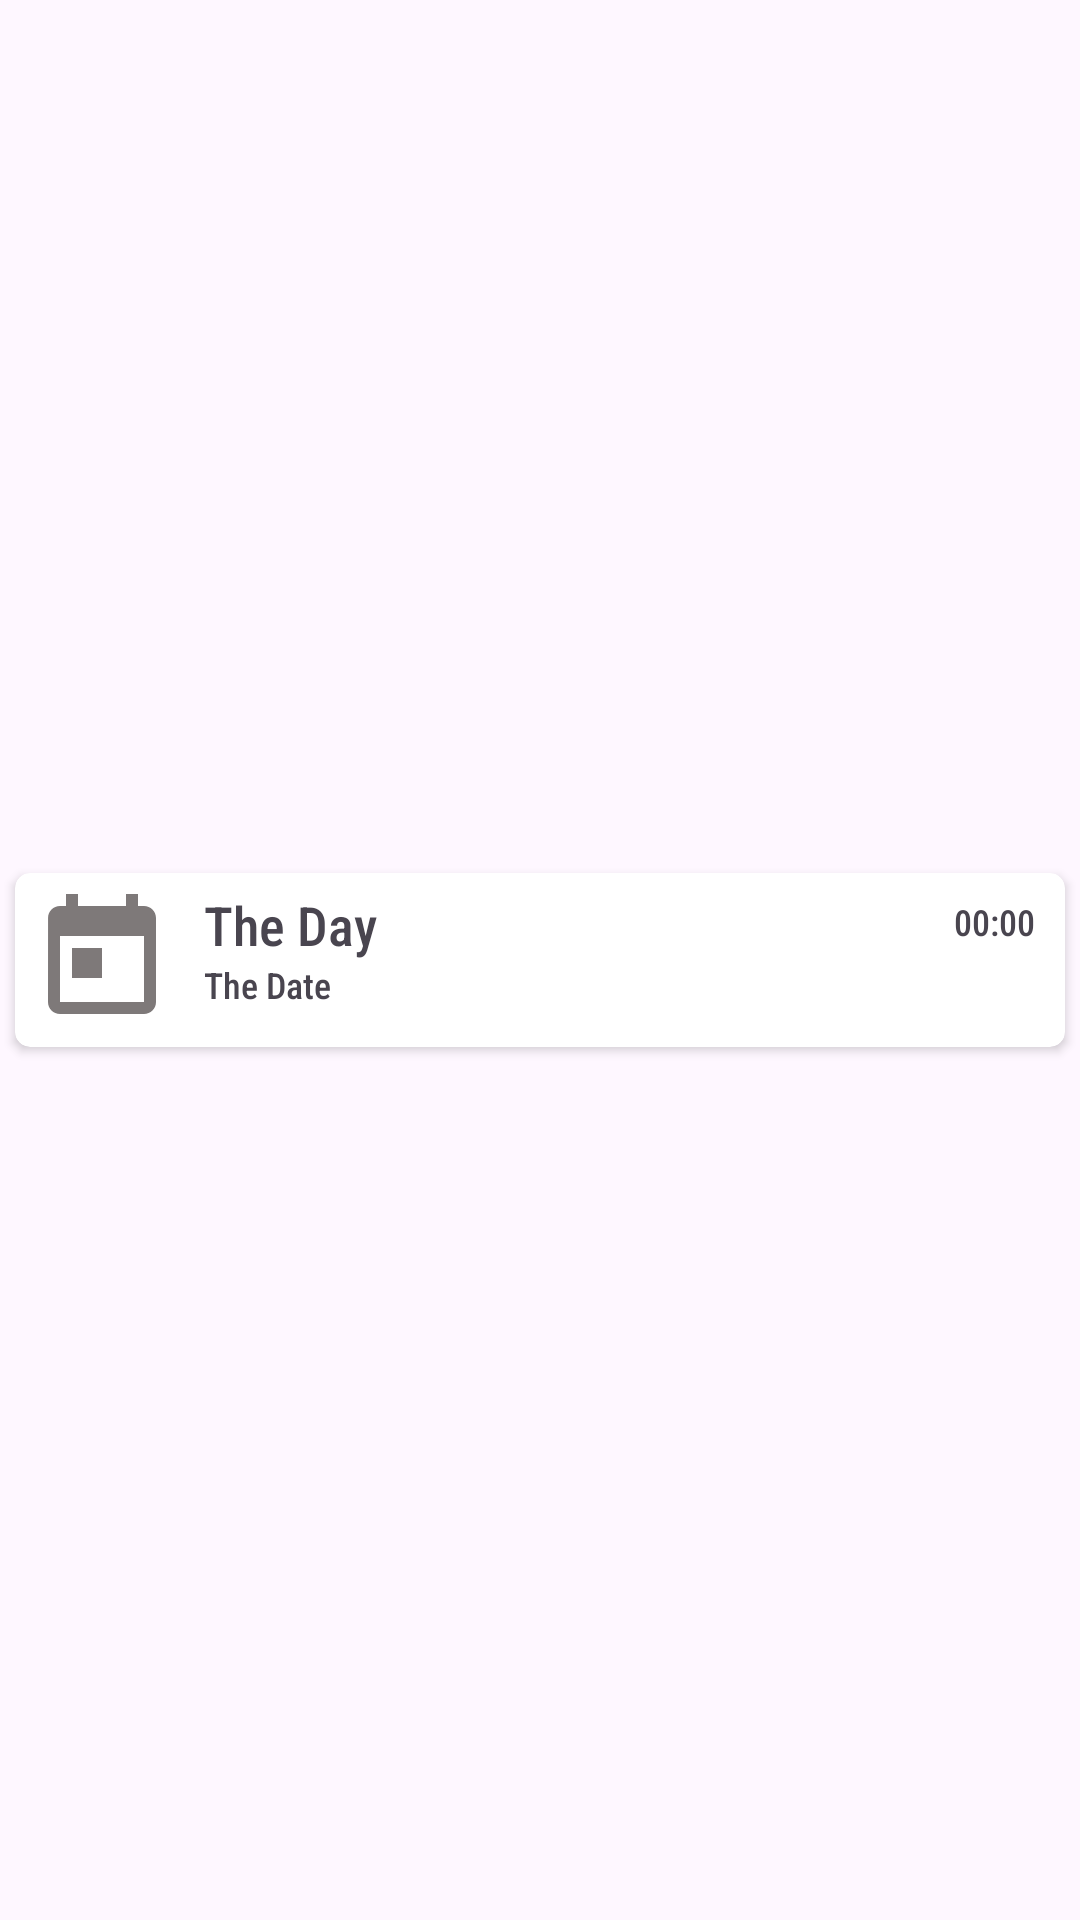

Icons on this 1080w x 1920h Android screen, each with its box as bbox(x1, y1, x2, y2):
today: bbox(48, 894, 156, 1014)
